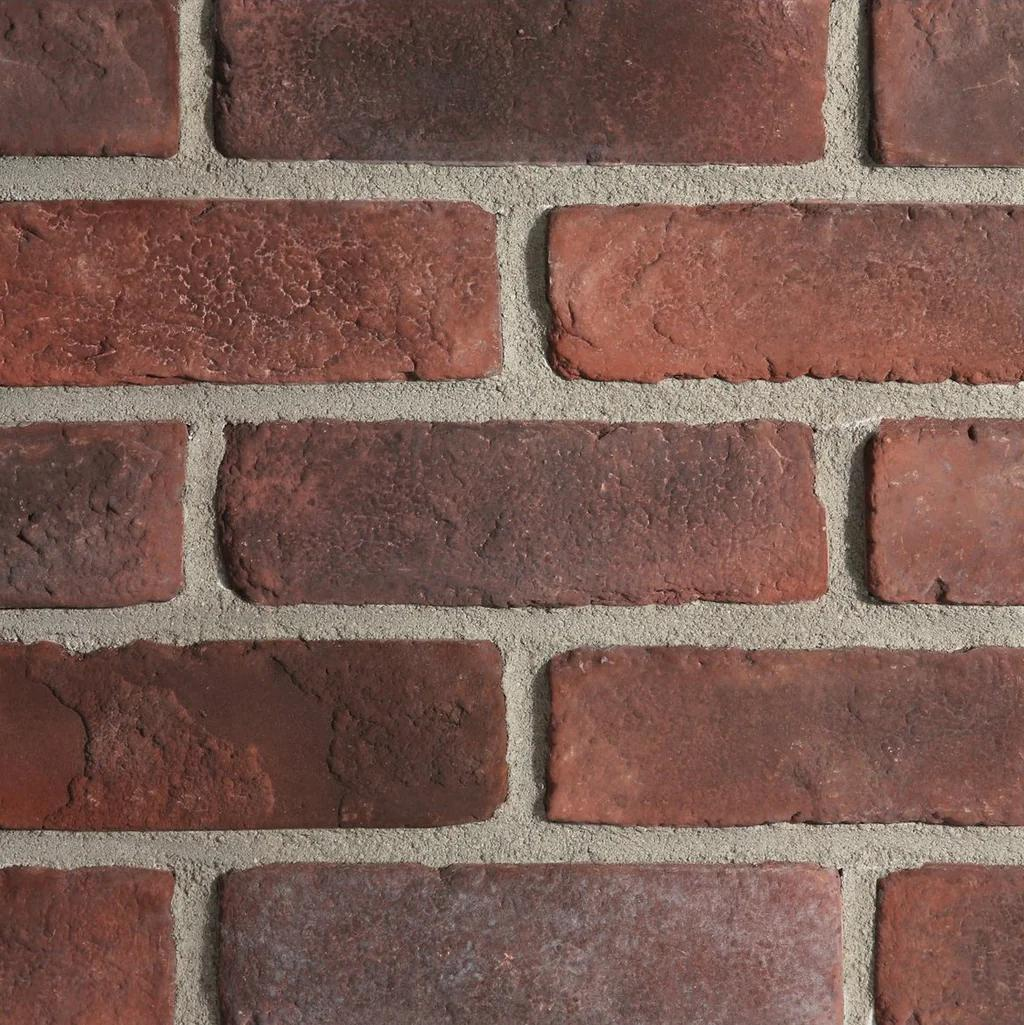Bricks: (224, 432, 814, 604), (230, 874, 859, 1025), (204, 2, 831, 152), (0, 644, 497, 820), (0, 202, 497, 375), (550, 656, 1024, 826), (554, 212, 1024, 373), (0, 430, 193, 601), (4, 2, 182, 156), (0, 864, 169, 1025), (870, 0, 1024, 173), (884, 424, 1024, 601), (876, 872, 1024, 1022)
